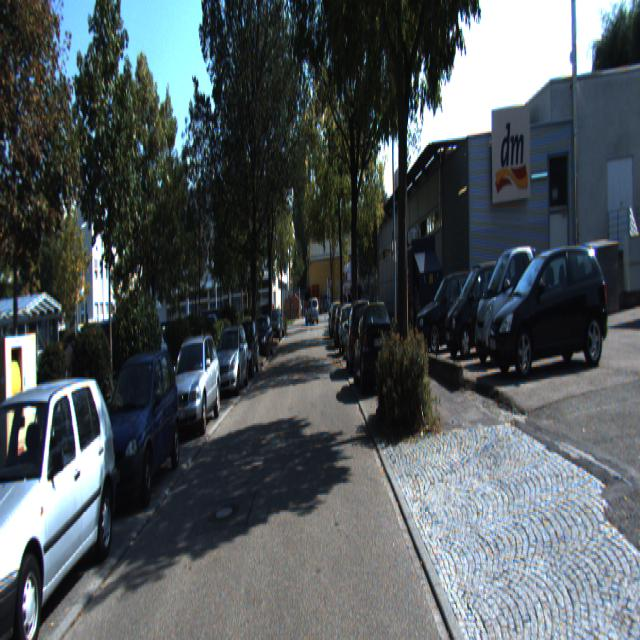Car: (0, 364, 125, 638), (485, 236, 614, 386), (92, 340, 185, 513), (470, 240, 550, 371), (441, 251, 522, 363), (413, 264, 485, 356), (163, 334, 221, 444), (352, 300, 395, 398), (211, 322, 250, 397), (345, 296, 375, 378)
